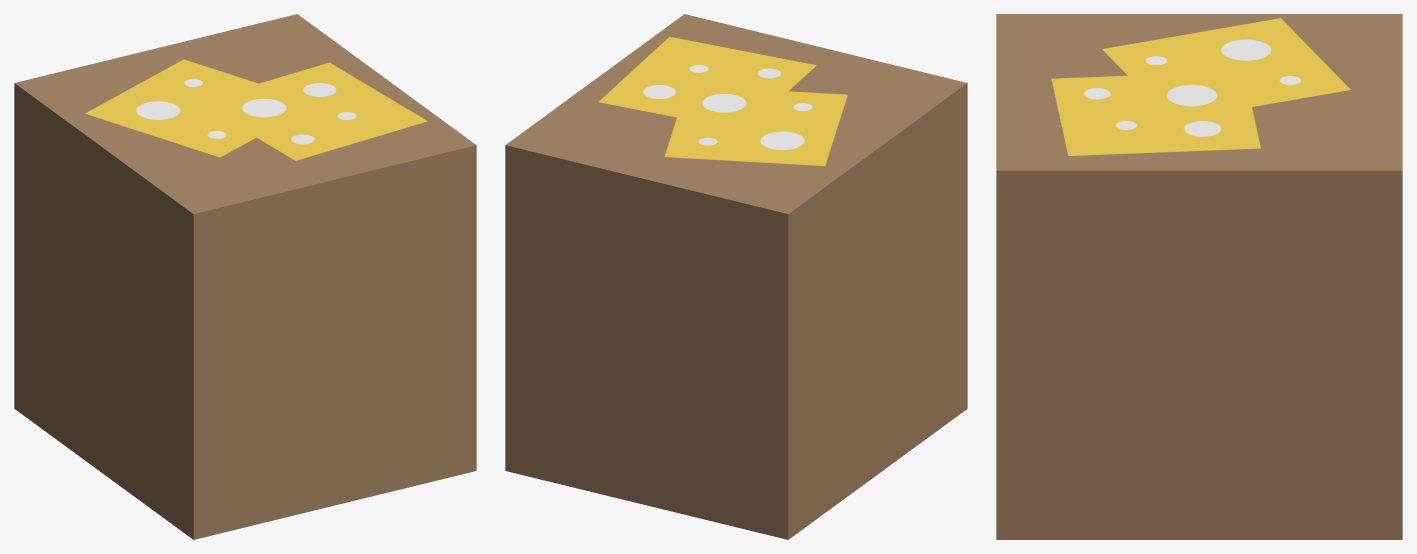
The model's file is cheese_box.glb.
3 renders of one model, left to right at view 1: azimuth 30°, elevation 25°; view 2: azimuth 150°, elevation 25°; view 3: azimuth 270°, elevation 25°, orthographic. The views are drawn at different scales.
Visible parts, largest first — view 1: Cube.039, Group 14; view 2: Cube.039, Group 14; view 3: Cube.039, Group 14.
Boxes of the visible parts, box(x1,y1,x2,y2) form: Cube.039: box(14, 14, 476, 539); Group 14: box(85, 59, 427, 160); Cube.039: box(505, 14, 967, 539); Group 14: box(598, 36, 847, 166); Cube.039: box(996, 14, 1402, 539); Group 14: box(1051, 18, 1350, 155).
Size of the model in its own units: 1.78 by 1.99 by 1.95.
Materials: 2 (1 with a texture image).
